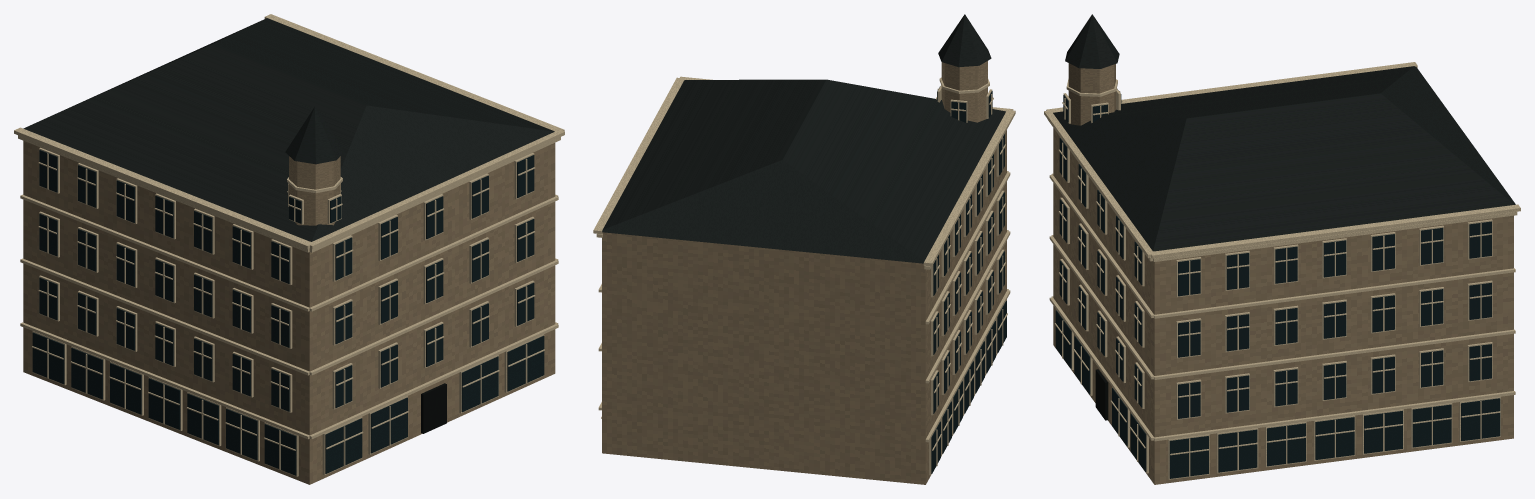
3 views of the same model, side by side, from view 1: azimuth 30°, elevation 25°; view 2: azimuth 150°, elevation 25°; view 3: azimuth 270°, elevation 25° (orthographic). The views are drawn at different scales.
Visible parts, largest first — view 1: huf-hoogstraat-0, huf-hoogstraat-3, huf-hoogstraat-2, huf-hoogstraat-1, huf-hoogstraat-4; view 2: huf-hoogstraat-0, huf-hoogstraat-3, huf-hoogstraat-1, huf-hoogstraat-2; view 3: huf-hoogstraat-0, huf-hoogstraat-3, huf-hoogstraat-2, huf-hoogstraat-1, huf-hoogstraat-4.
Boxes of the visible parts, bbox=[...] form: huf-hoogstraat-0: bbox=[23, 141, 555, 484]; huf-hoogstraat-3: bbox=[23, 18, 554, 241]; huf-hoogstraat-2: bbox=[32, 150, 544, 475]; huf-hoogstraat-1: bbox=[14, 14, 564, 476]; huf-hoogstraat-4: bbox=[421, 383, 446, 433]; huf-hoogstraat-0: bbox=[602, 61, 1006, 484]; huf-hoogstraat-3: bbox=[602, 14, 1005, 263]; huf-hoogstraat-1: bbox=[593, 76, 1015, 475]; huf-hoogstraat-2: bbox=[931, 87, 1006, 473]; huf-hoogstraat-0: bbox=[1053, 63, 1513, 484]; huf-hoogstraat-3: bbox=[1053, 14, 1515, 251]; huf-hoogstraat-2: bbox=[1055, 89, 1500, 478]; huf-hoogstraat-1: bbox=[1044, 62, 1520, 479]; huf-hoogstraat-4: bbox=[1095, 369, 1108, 420].
Bounding box in the file's own units: 30.51 × 25.2 × 31.72.
5 materials, 5 textured.
